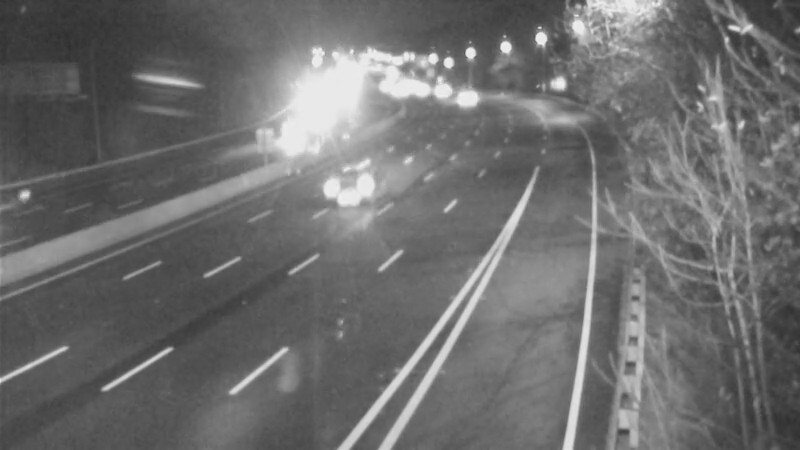vehicle: (313, 152, 393, 232), (442, 77, 492, 127), (273, 113, 323, 163)
